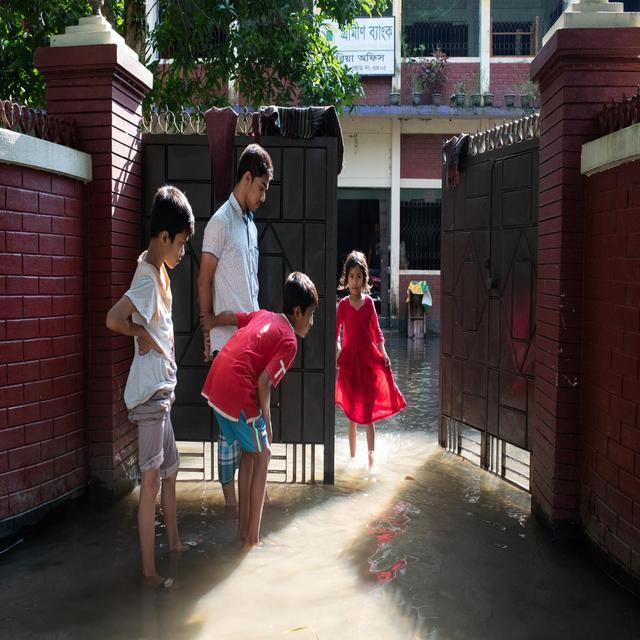Person-RiskLevel2: (97, 181, 199, 602), (201, 272, 320, 562), (318, 242, 407, 480), (196, 146, 276, 382)
